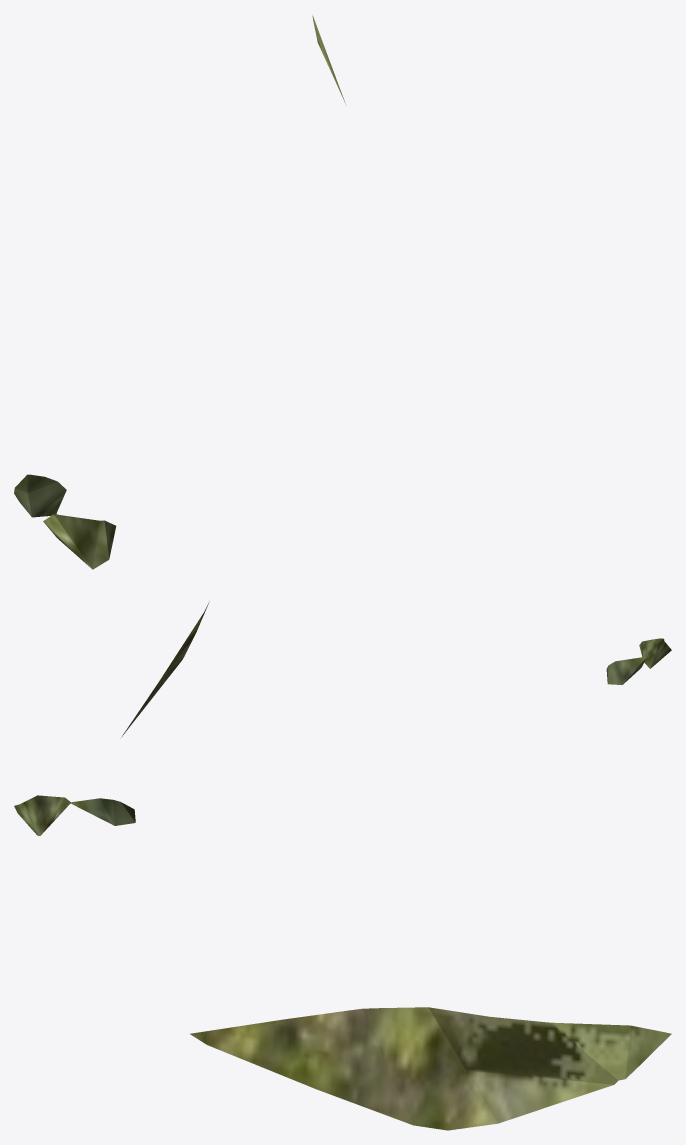
3 renders of one model, top to bottom at view 1: azimuth 30°, elevation 25°; view 2: azimuth 150°, elevation 25°; view 3: azimuth 270°, elevation 25°, orthographic. The views are drawn at different scales.
Size of the model in its own units: 2.62 by 0.4954 by 3.05.
1 material, 1 textured.
